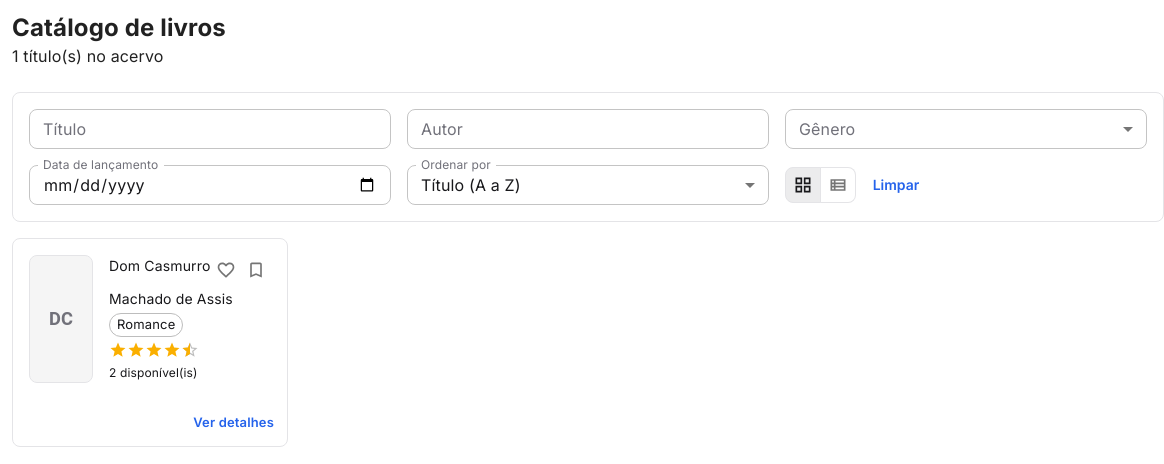
Test: alterna entre grade e lista
The width and height of the screenshot is (1164, 464).
Expected: the heading "Dom Casmurro" is shown, [109,255,210,277]
Click the button named "Lista". click: (838, 185)
box: [820,167,856,203]
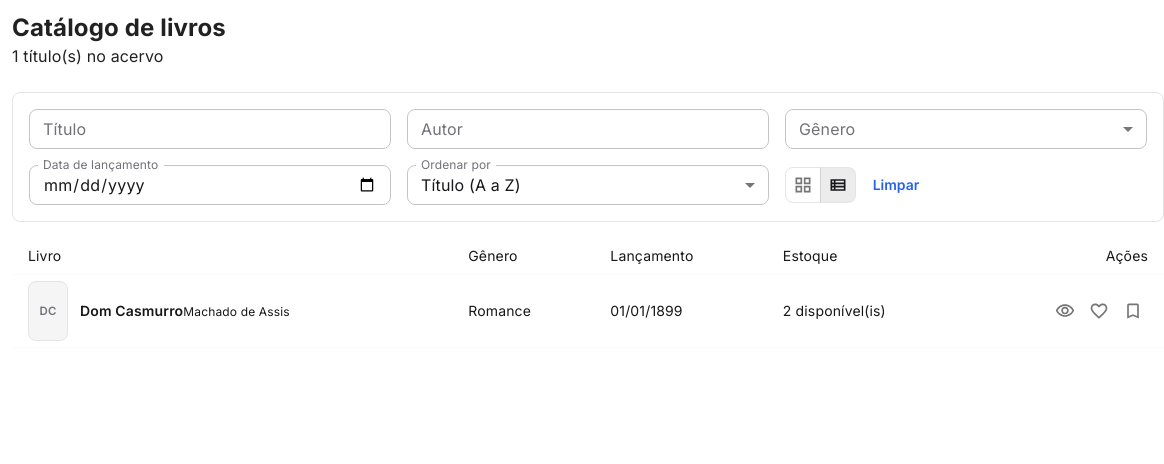
Now the table named "Livros do acervo" is shown, box [12,238,1163,348]
